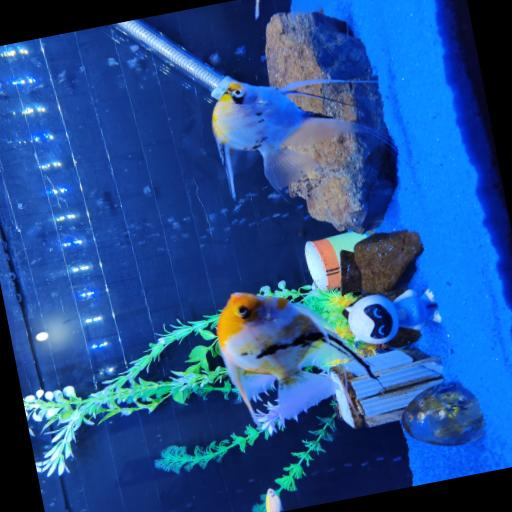Fish: (212, 76, 389, 197), (217, 292, 374, 417), (265, 488, 282, 511), (255, 0, 260, 19)
